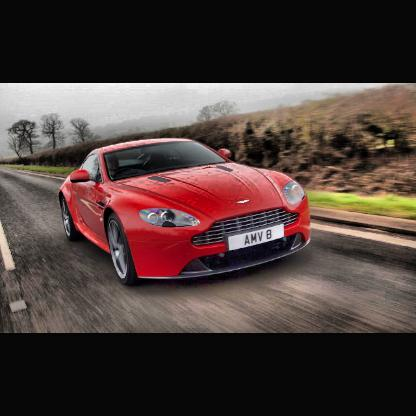Aston Martin V8 Vantage Coupe 2012: (57, 132, 321, 295)
